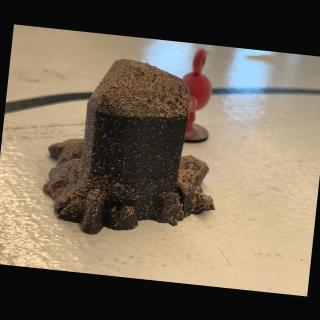teletubby: (182, 49, 211, 133)
